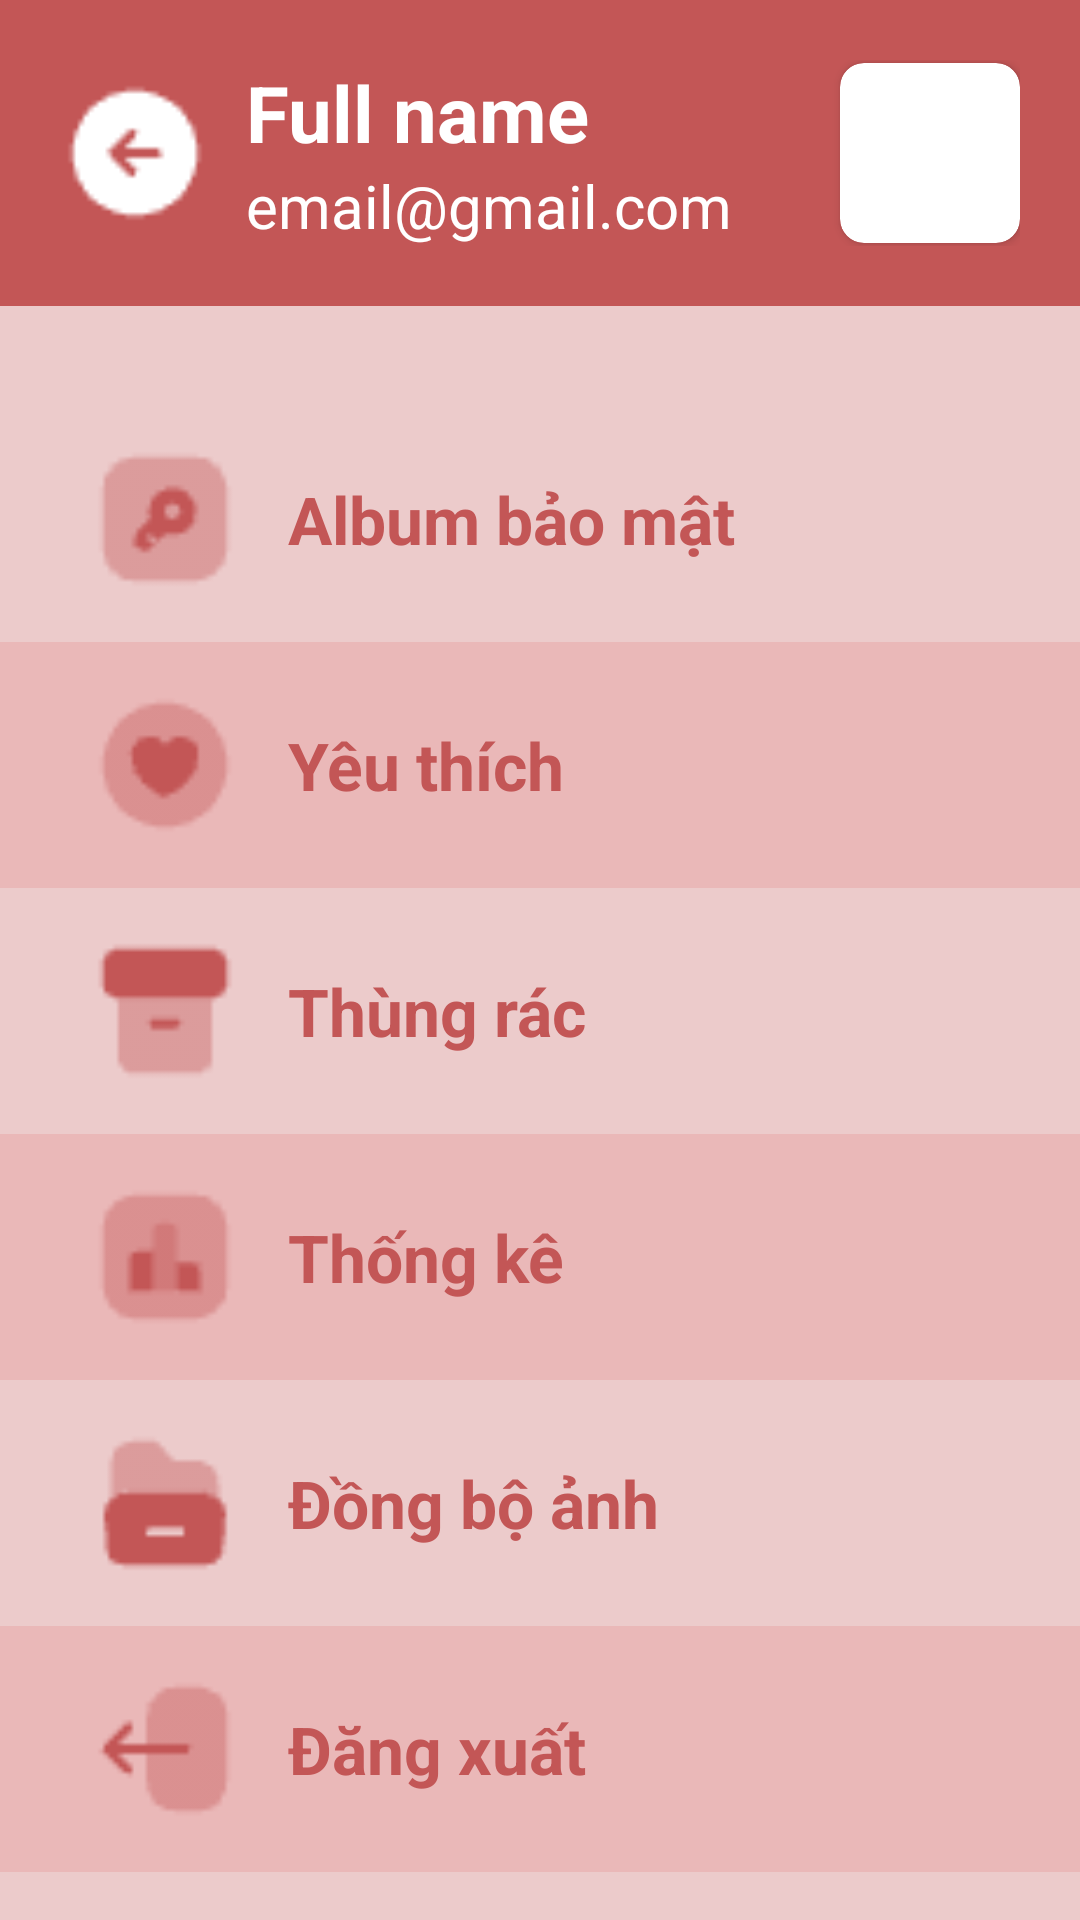

Icon bounding boxes for this 1080x1920 phone screenshot, format box=[x1, y1, x2, y2]:
archive: box=[101, 947, 229, 1073]
arrow circle left: box=[70, 88, 200, 218]
chart: box=[104, 1196, 226, 1318]
folder open: box=[103, 1441, 227, 1567]
heart circle: box=[104, 704, 226, 826]
key: box=[103, 457, 227, 581]
